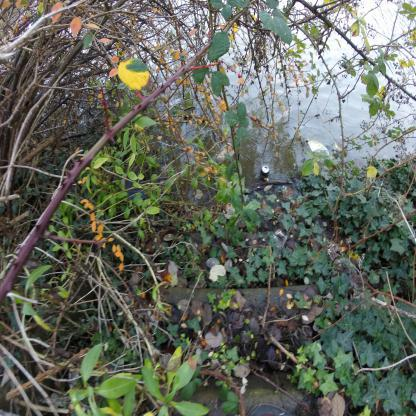metal: (261, 165, 271, 181)
